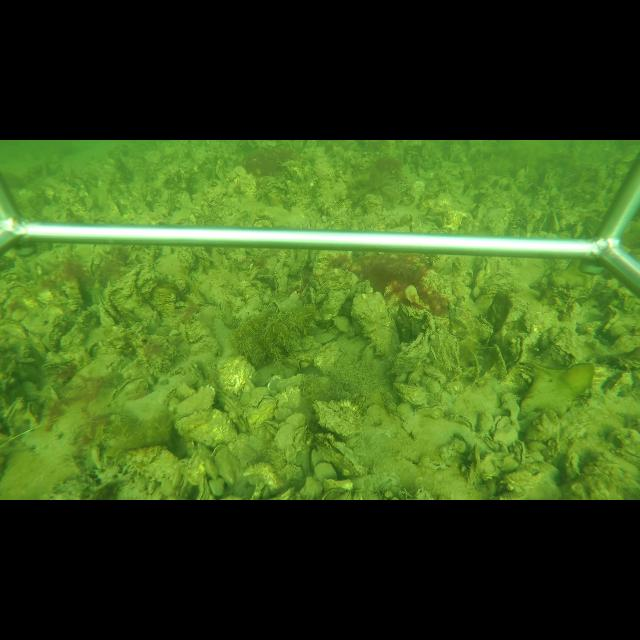Oyster-Closed: (350, 292, 397, 357), (176, 407, 239, 445), (312, 399, 363, 437), (106, 264, 142, 316), (392, 327, 428, 371), (171, 383, 216, 416), (219, 356, 256, 396), (108, 373, 150, 406), (246, 394, 278, 431), (318, 285, 348, 323), (392, 382, 427, 406), (428, 325, 443, 368), (274, 422, 294, 451), (273, 263, 288, 300), (414, 404, 447, 419), (477, 258, 492, 286), (196, 476, 210, 498), (424, 366, 442, 378)
Oyster-Open: (316, 439, 359, 476), (488, 414, 512, 441), (509, 335, 527, 366), (514, 441, 527, 467)
